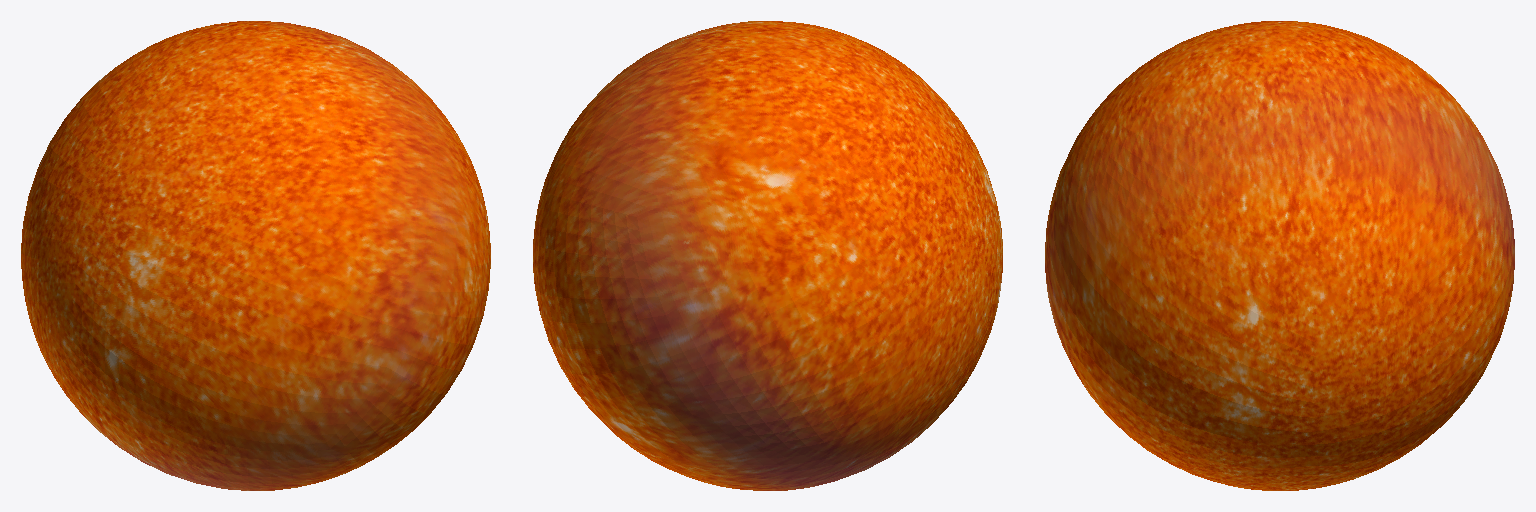
3 renders of one model, left to right at view 1: azimuth 30°, elevation 25°; view 2: azimuth 150°, elevation 25°; view 3: azimuth 270°, elevation 25°, orthographic.
Visible parts, largest first — view 1: Object.1; view 2: Object.1; view 3: Object.1.
Part boxes in pixels (bbox=[...]): Object.1: bbox=[21, 21, 490, 490]; Object.1: bbox=[533, 21, 1002, 490]; Object.1: bbox=[1045, 21, 1514, 490].
Bounding box in the file's own units: 0.6795 × 0.6803 × 0.6799.
Materials: 1 (1 with a texture image).